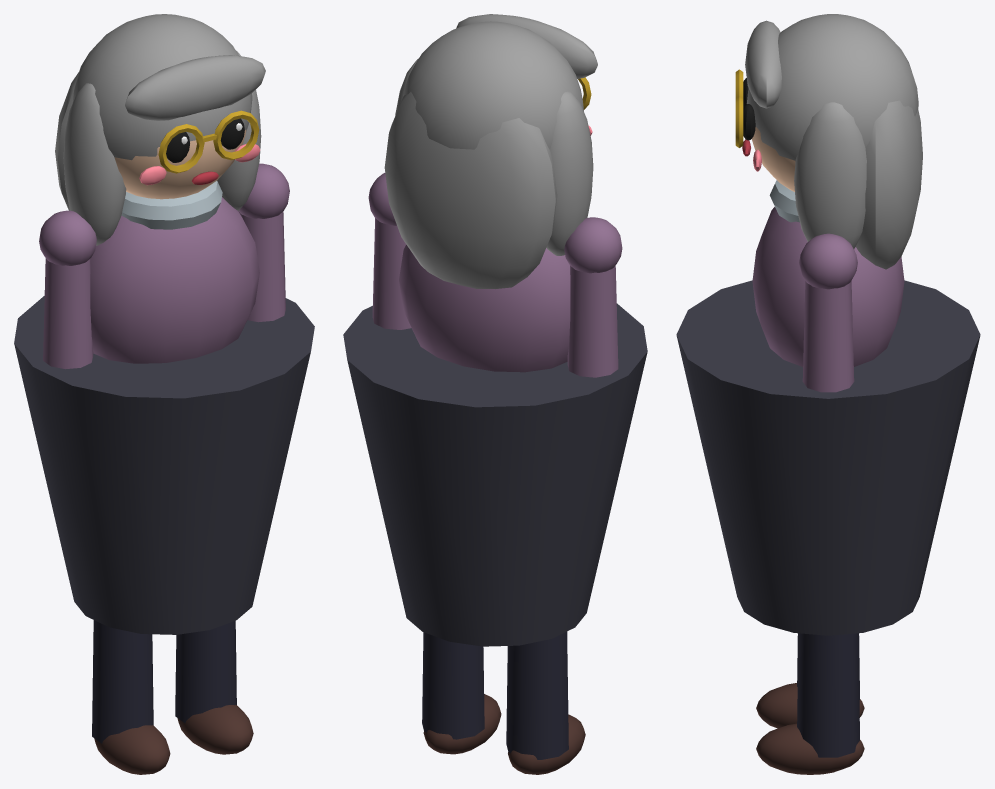
Rendered from town_mw_bubby.glb.
3 renders of one model, left to right at view 1: azimuth 30°, elevation 25°; view 2: azimuth 150°, elevation 25°; view 3: azimuth 270°, elevation 25°, orthographic.
Visible parts, largest first — view 1: Body.002, Leg_R.002, Leg_L.002, Arm_R.001, Arm_L.001; view 2: Body.002, Leg_R.002, Arm_R.001, Leg_L.002, Arm_L.001; view 3: Body.002, Leg_L.002, Arm_L.001, Leg_R.002.
Boxes of the visible parts, box(x1,y1,x2,y2) form: Body.002: box(14, 14, 314, 634); Leg_R.002: box(92, 620, 170, 774); Leg_L.002: box(175, 620, 253, 754); Arm_R.001: box(39, 210, 96, 369); Arm_L.001: box(238, 163, 289, 322); Body.002: box(343, 14, 647, 646); Leg_R.002: box(506, 631, 585, 774); Arm_R.001: box(564, 217, 622, 377); Leg_L.002: box(422, 632, 501, 754); Arm_L.001: box(368, 173, 411, 329); Body.002: box(676, 14, 980, 635); Leg_L.002: box(756, 633, 864, 774); Arm_L.001: box(799, 233, 857, 392); Leg_R.002: box(756, 633, 864, 728).
Bounding box in the file's own units: 0.6305 × 1.67 × 0.6305.
